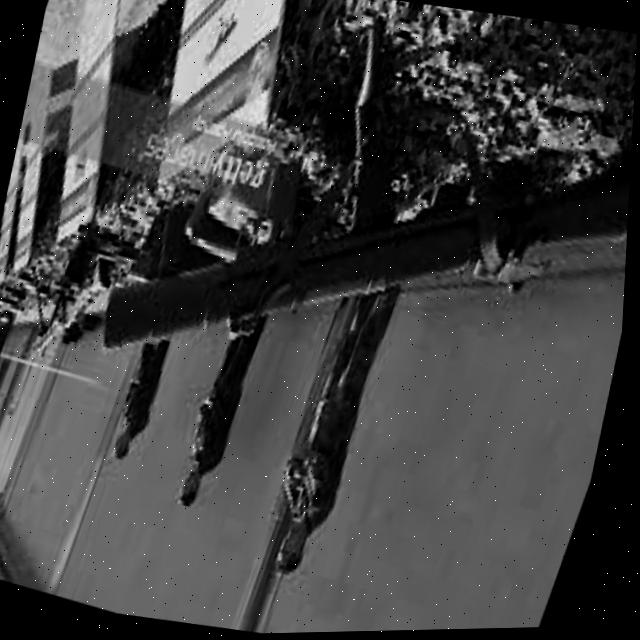rocket: (77, 19, 639, 494)
